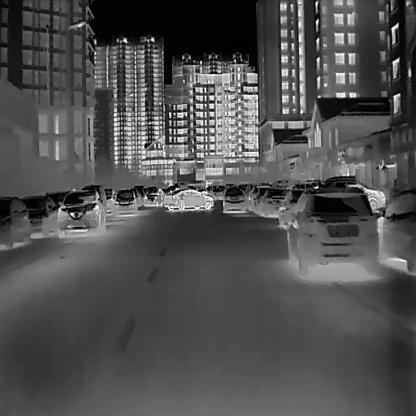car: (287, 192, 381, 273), (373, 187, 415, 272), (56, 190, 106, 237), (323, 180, 385, 211), (0, 193, 32, 250), (21, 192, 60, 236), (163, 189, 214, 211), (278, 191, 309, 227), (258, 188, 286, 217), (113, 188, 138, 218), (223, 188, 247, 213), (144, 186, 165, 207)
